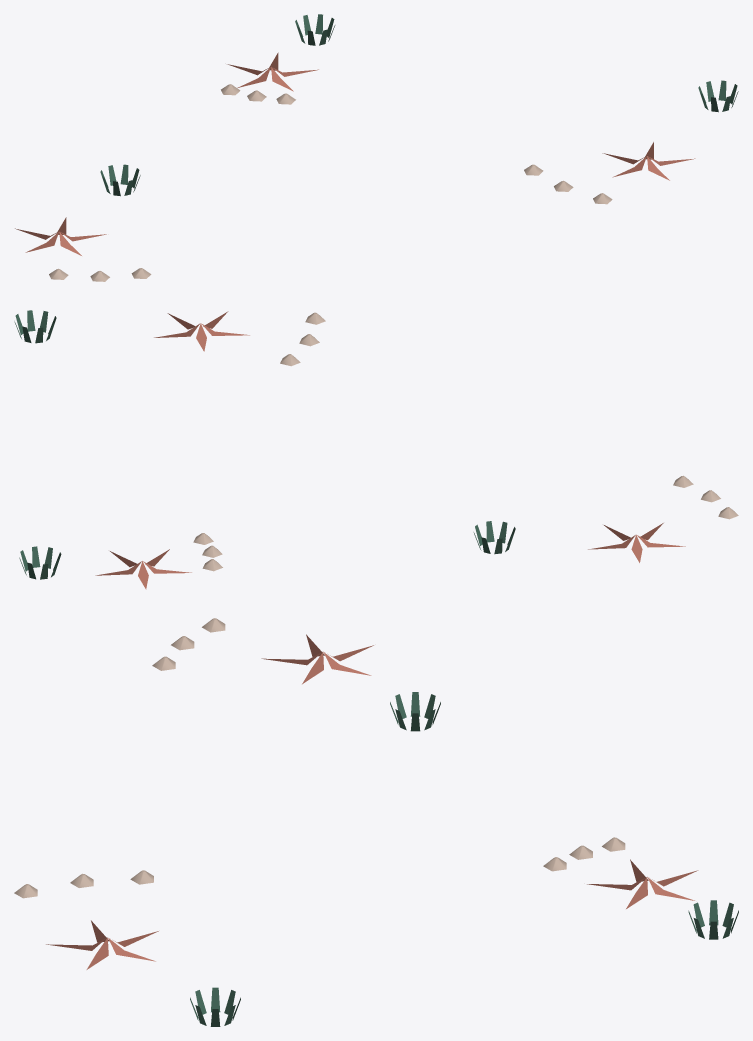
Rendered from tide-pool-life.glb.
3 views of the same model, one above another, from view 1: azimuth 30°, elevation 25°; view 2: azimuth 150°, elevation 25°; view 3: azimuth 270°, elevation 25° (orthographic). The views are drawn at different scales.
Bounding box in the file's own units: 3.77 × 0.246 × 2.76.
